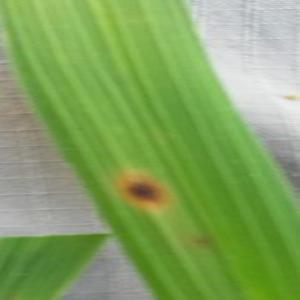Brown_Spot: (114, 166, 177, 213), (189, 235, 217, 249)
